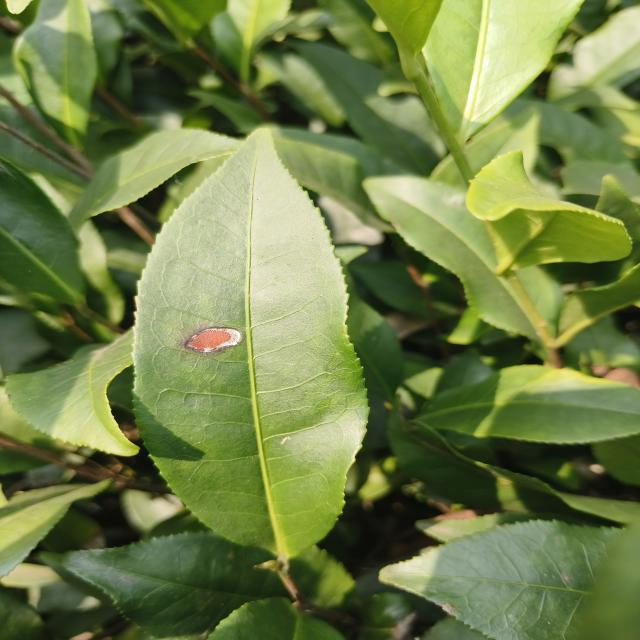Leaf: (134, 129, 368, 558), (379, 520, 622, 640), (364, 176, 535, 337), (389, 416, 640, 523), (63, 532, 289, 640), (422, 0, 582, 143), (466, 151, 631, 275), (294, 43, 446, 175), (415, 365, 640, 444), (69, 129, 240, 230), (6, 330, 139, 456), (270, 125, 407, 230), (13, 0, 97, 148), (0, 160, 85, 304), (0, 480, 111, 577), (547, 5, 640, 101), (502, 99, 630, 166), (346, 268, 402, 402), (556, 264, 640, 346), (207, 598, 345, 640), (227, 0, 291, 82), (289, 546, 355, 610)
